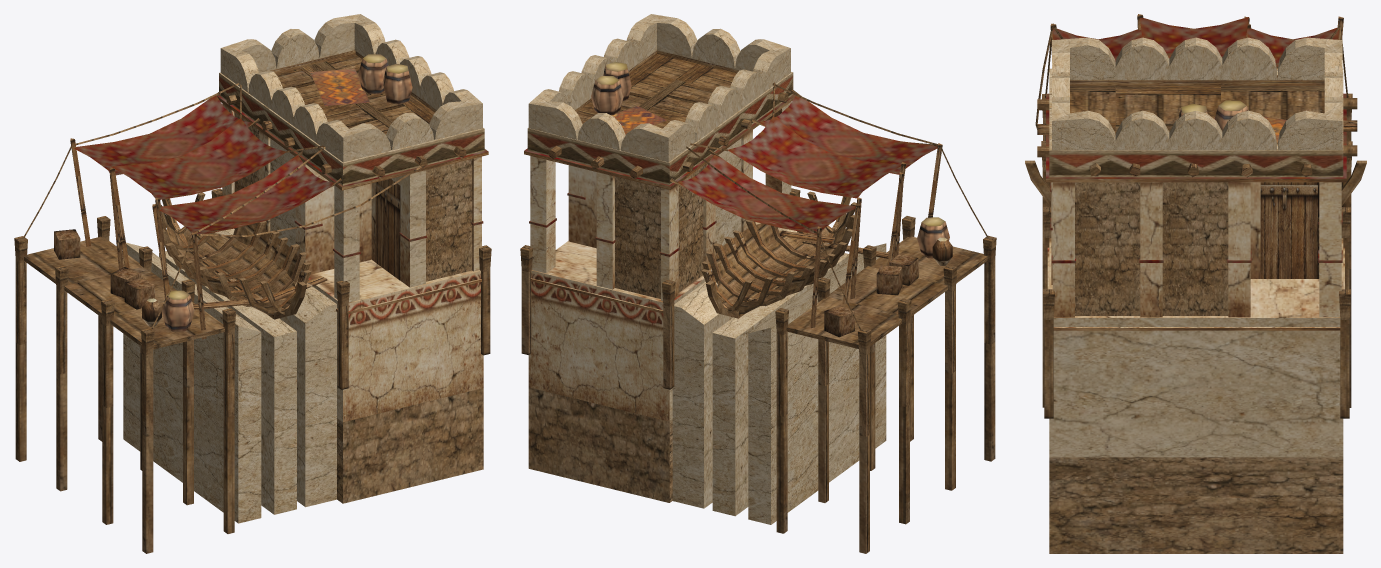
Rendered from dock.dae.
3 views of the same model, side by side, from view 1: azimuth 30°, elevation 25°; view 2: azimuth 150°, elevation 25°; view 3: azimuth 270°, elevation 25° (orthographic). The views are drawn at different scales.
Parts seen in each view (by area): view 1: Dock; view 2: Dock; view 3: Dock.
Part boxes in pixels (x1,y1,x2,y2): Dock: (14, 14, 491, 553); Dock: (520, 14, 996, 553); Dock: (1025, 14, 1366, 553).
Bounding box in the file's own units: 21.6 × 15.43 × 21.7.
